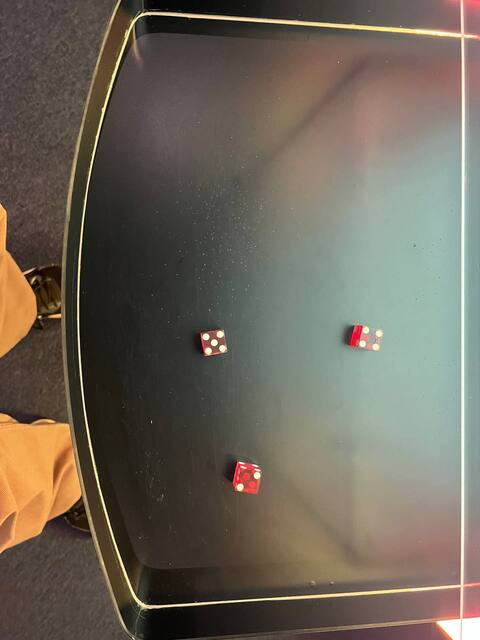five: (198, 327, 231, 360)
four: (353, 323, 386, 355)
two: (231, 467, 264, 497)
